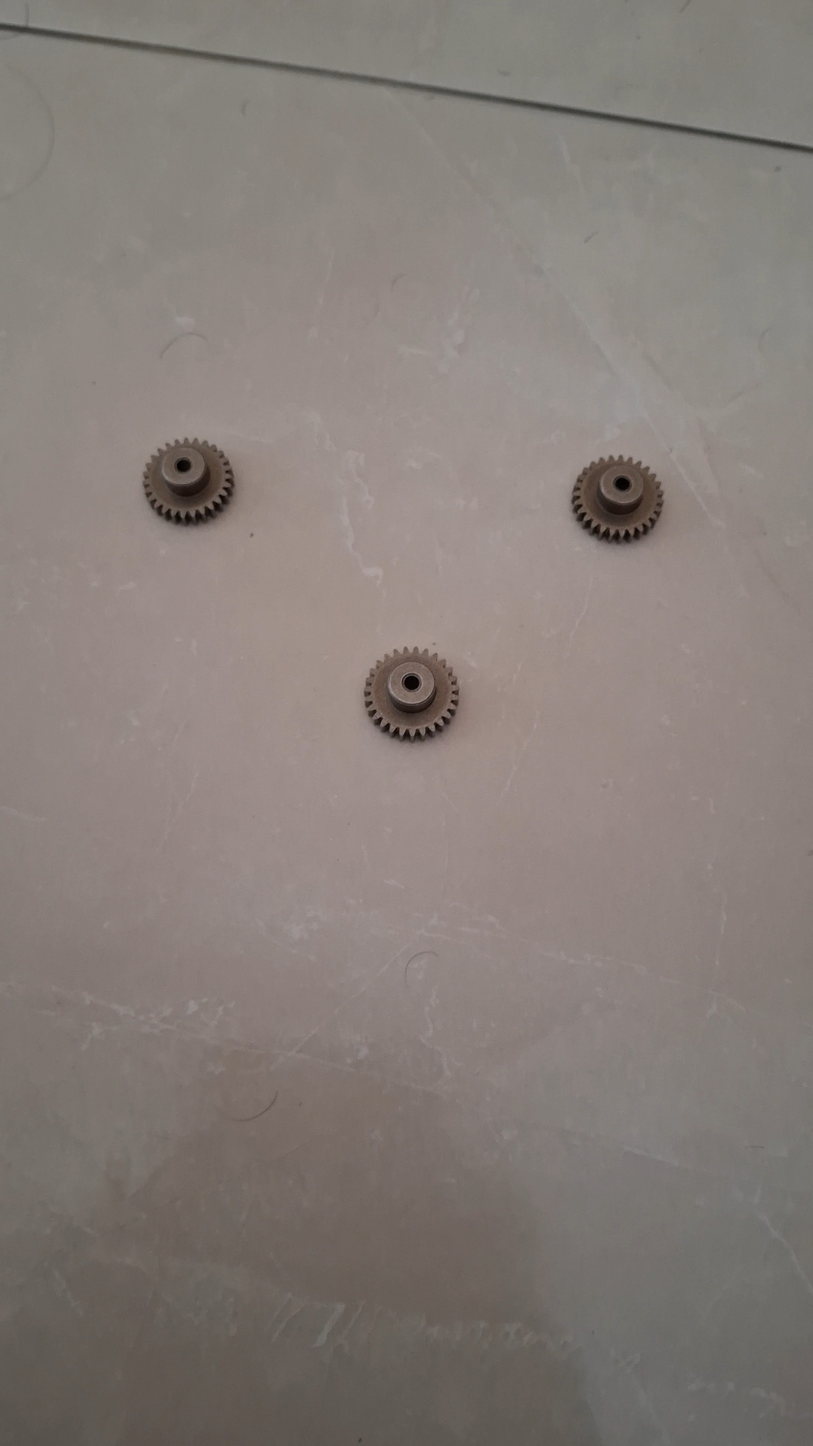spur gear: (364, 648, 458, 739), (143, 438, 234, 523), (572, 457, 662, 540)
